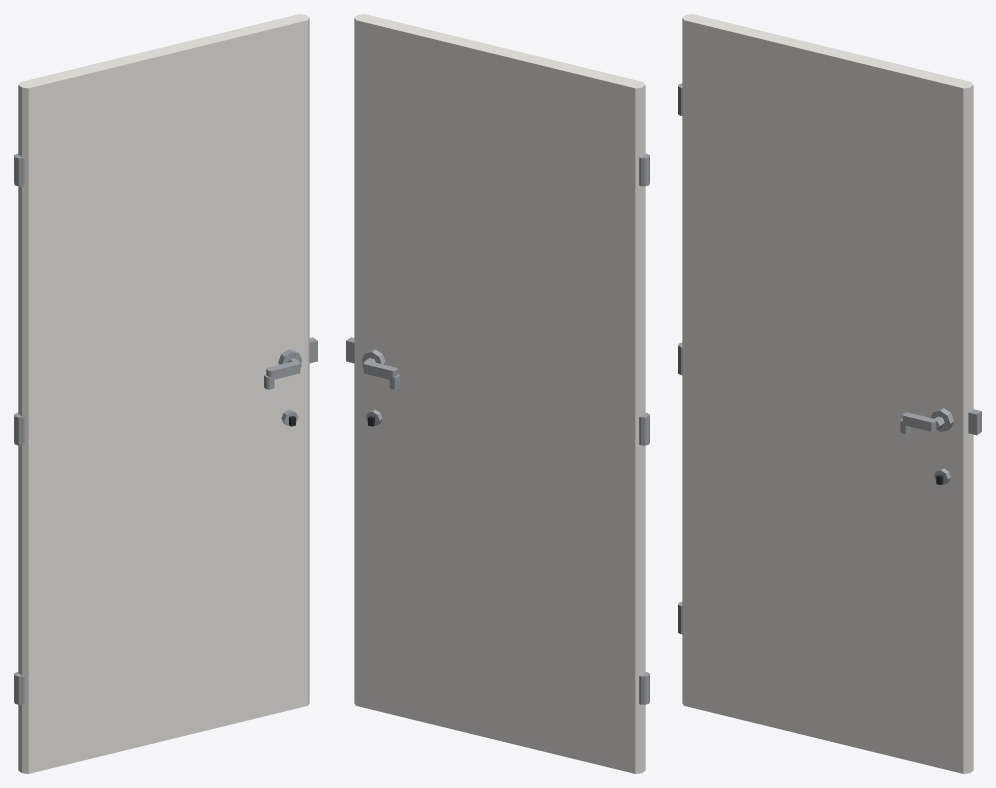
The model's file is SM_LPI_Open_DoorLeaf_01.fbx.
3 views of the same model, side by side, from view 1: azimuth 30°, elevation 25°; view 2: azimuth 150°, elevation 25°; view 3: azimuth 330°, elevation 25° (orthographic).
Parts seen in each view (by area): view 1: SM_LPI_Open_DoorLeaf_01; view 2: SM_LPI_Open_DoorLeaf_01; view 3: SM_LPI_Open_DoorLeaf_01.
Boxes of the visible parts, x1,y1,x2,y2 form: SM_LPI_Open_DoorLeaf_01: [14, 14, 317, 773]; SM_LPI_Open_DoorLeaf_01: [346, 14, 649, 773]; SM_LPI_Open_DoorLeaf_01: [678, 14, 981, 773].
Bounding box in the file's own units: 0.941 × 2.05 × 0.174.
